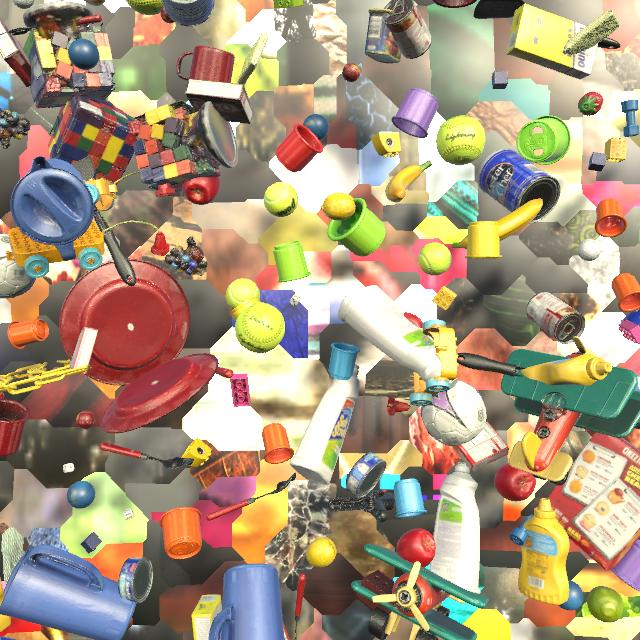ycb_002_master_chef_can: (478, 148, 561, 223), (162, 0, 214, 26), (620, 309, 640, 327), (0, 636, 18, 640)
ycb_003_cracker_box: (547, 432, 640, 571), (283, 622, 290, 640)
ycb_004_sugar_box: (506, 3, 598, 79), (191, 595, 222, 640)
ycb_005_tomato_soup_can: (526, 292, 586, 344), (381, 0, 432, 59)
ycb_006_mustard_bottle: (518, 498, 569, 605), (521, 354, 612, 386), (0, 578, 11, 632)
ycb_007_tuna_fish_can: (345, 452, 386, 498), (118, 557, 153, 603), (634, 374, 640, 392)
ycb_008_pudding_box: (185, 79, 253, 124), (0, 18, 32, 87)
ycb_009_gelatin_box: (452, 421, 509, 472), (69, 327, 98, 374)
ycb_010_potted_meat_can: (365, 9, 401, 63)
ycb_011_banana: (452, 199, 543, 249), (385, 160, 432, 202), (84, 0, 105, 6)
ycb_012_strawberry: (578, 92, 603, 116)
ycb_013_apple: (494, 463, 536, 501), (397, 528, 436, 567), (182, 177, 220, 205), (404, 312, 423, 329)
ycb_014_lemon: (321, 193, 356, 221), (306, 537, 337, 567)
ycb_016_pear: (587, 586, 624, 623)
